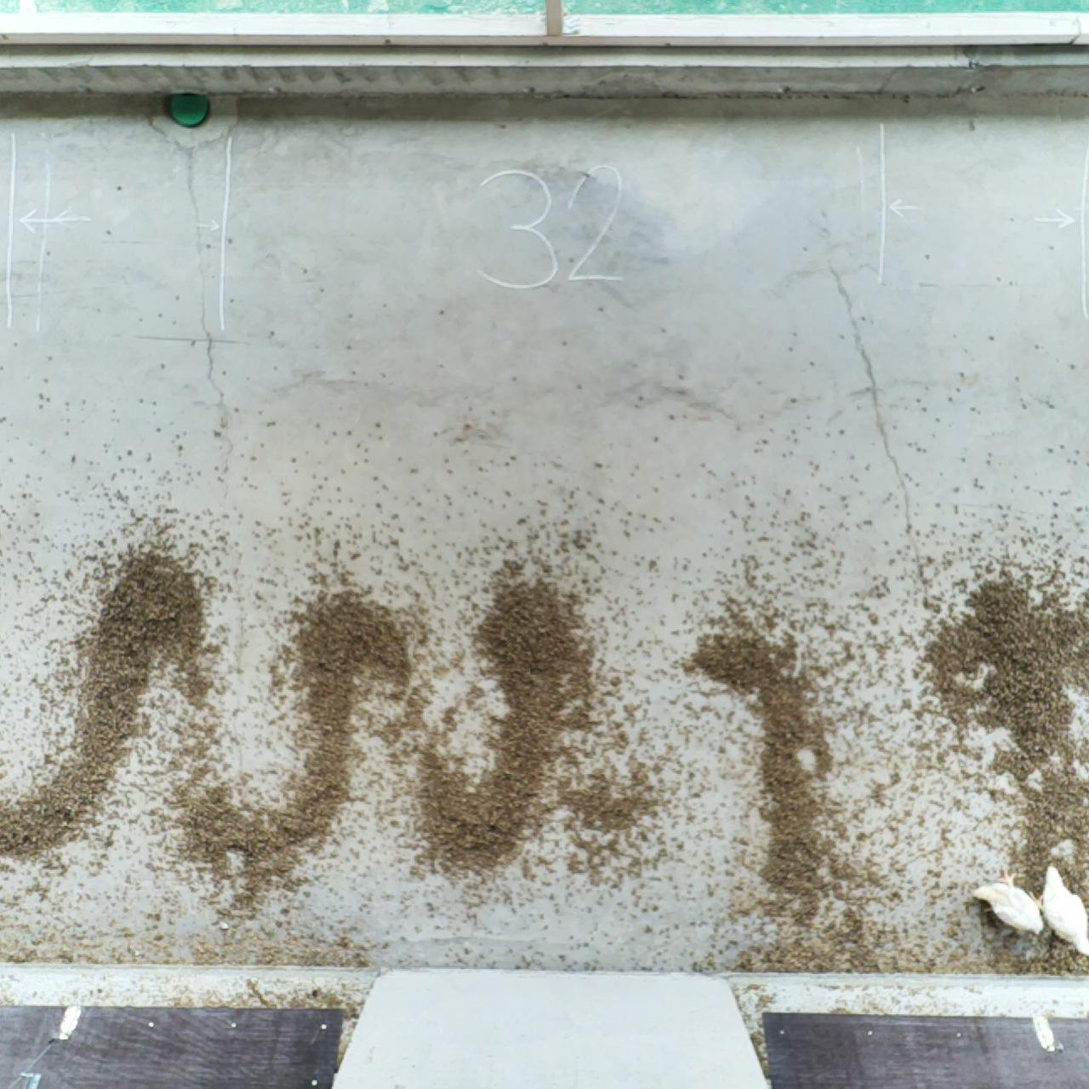chicken: (1026, 858, 1089, 960), (970, 864, 1046, 938)
